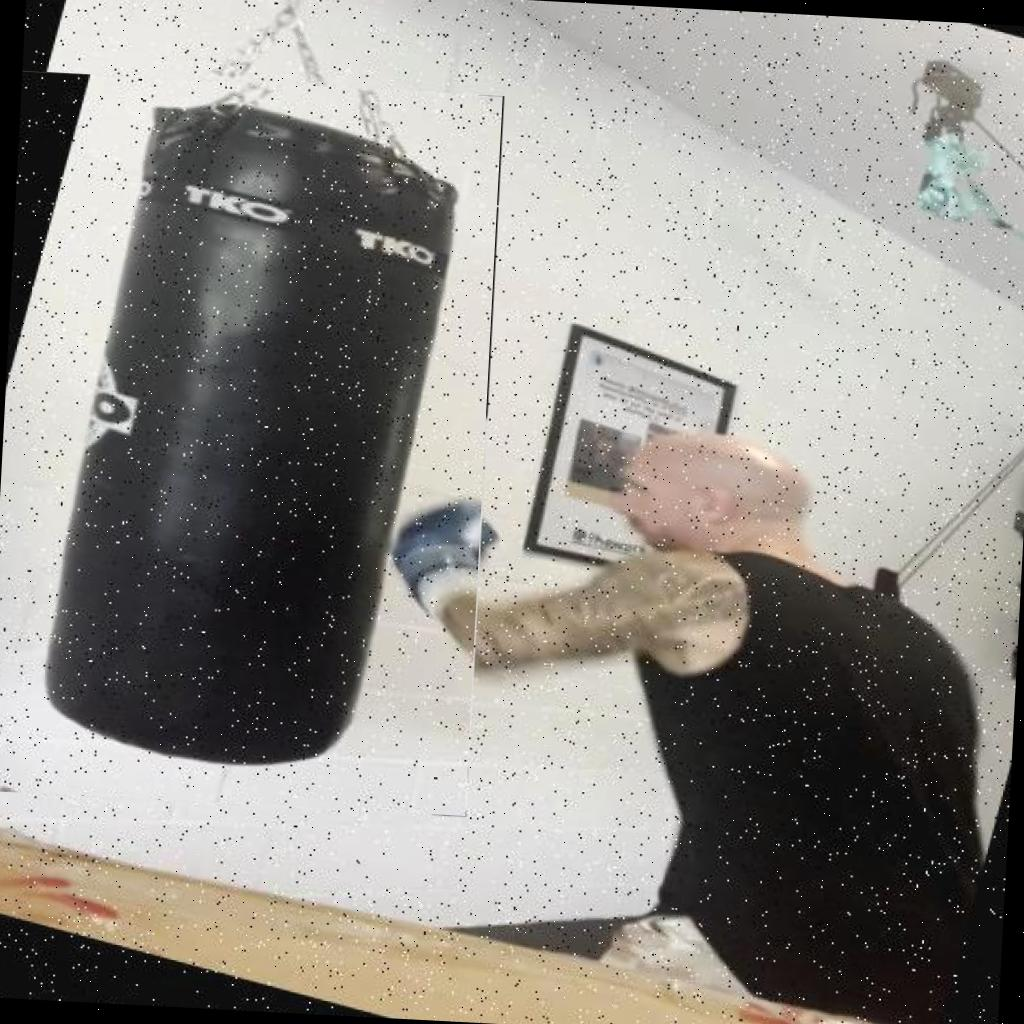bag: (0, 71, 502, 816)
hook: (309, 311, 1024, 812)
